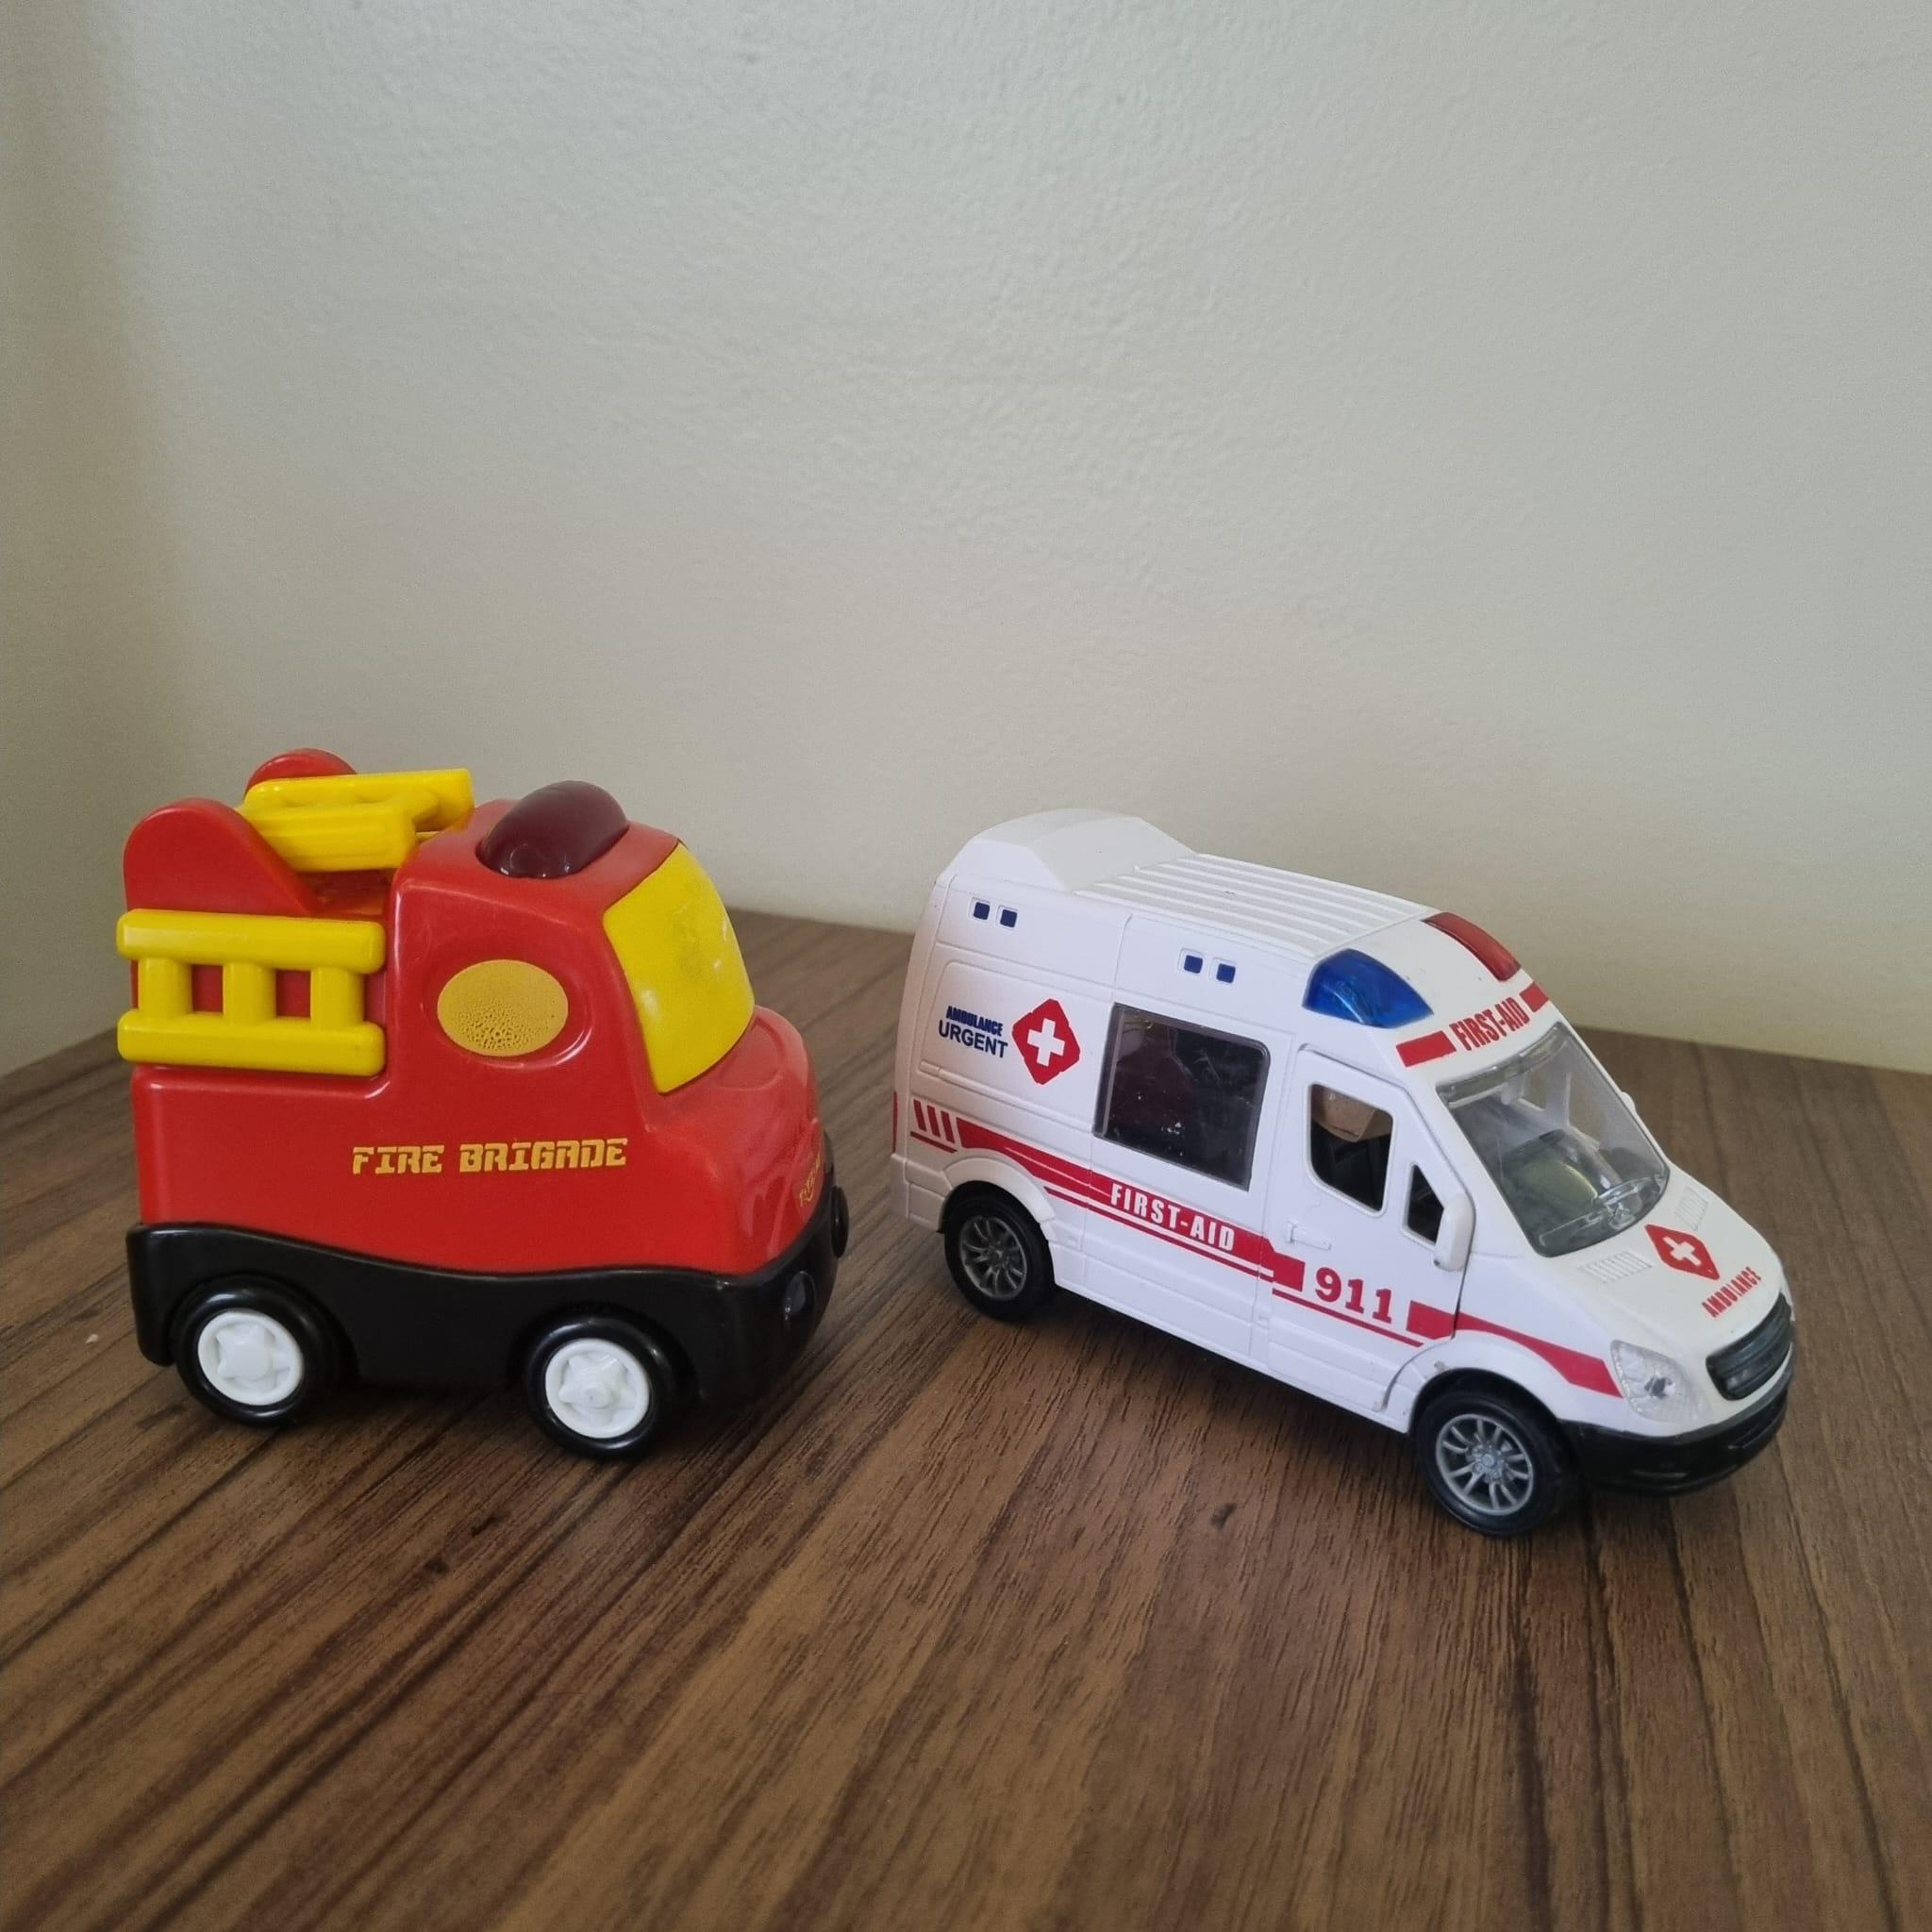ambulance_off: (895, 809, 1796, 1539)
firetruck_off: (117, 747, 853, 1456)
